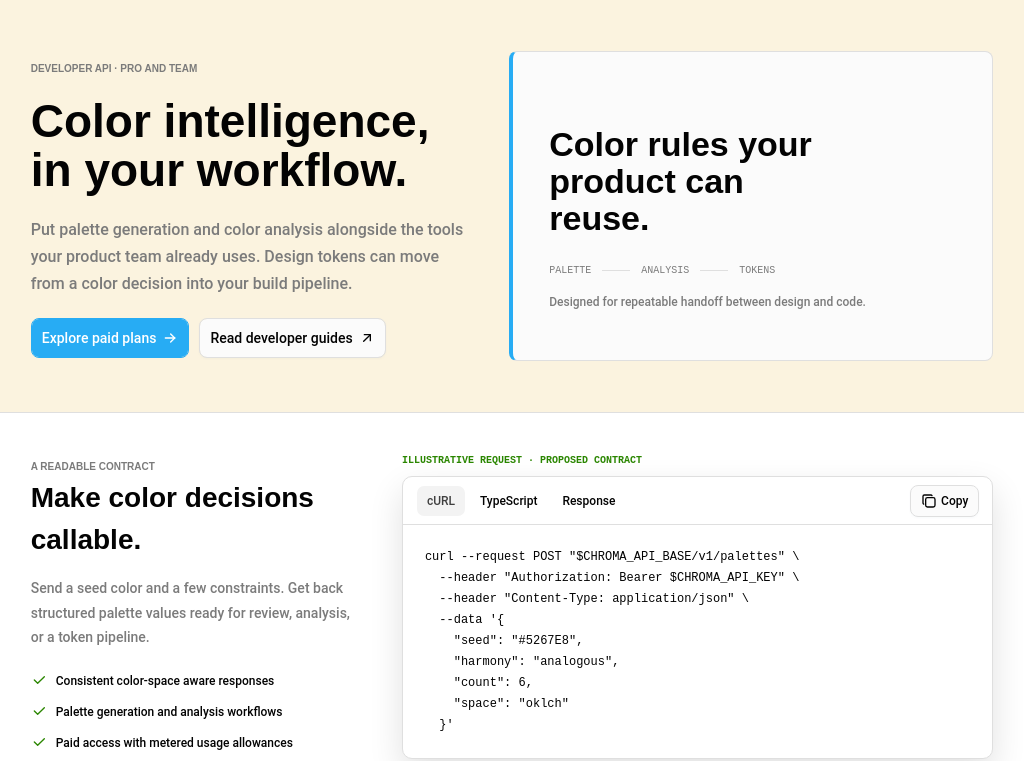
Test case: marketing pricing › switches API examples and exposes the draft contract note
Expected: the heading "Color intelligence, in your workflow." is shown, [31,97,468,196]
Expected: the text "CHROMA_API_BASE/v1/palettes" is shown, [425,550,799,732]
What coordinates should you click on to do the following:
click the button "TypeScript"
I would click on:
 (509, 501)
Its box is [469,485,548,517].
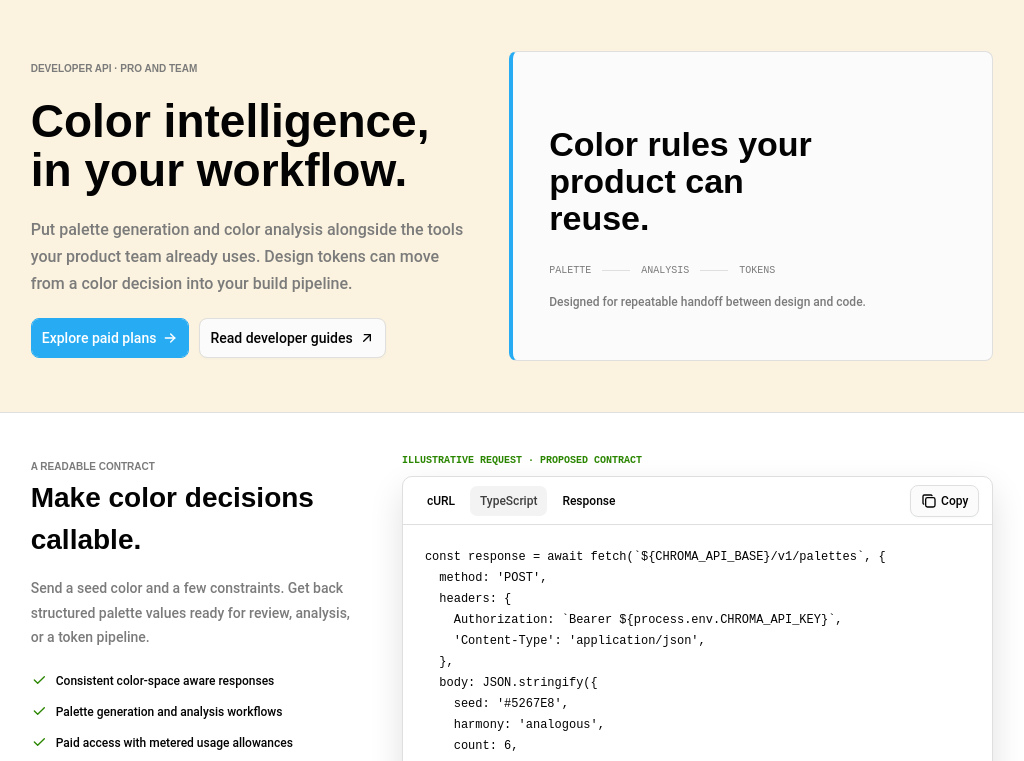
What coordinates should you click on to do the following:
click the button "Response"
I would click on:
 (589, 501)
Its box is [551,485,626,517].
(page scrolled)
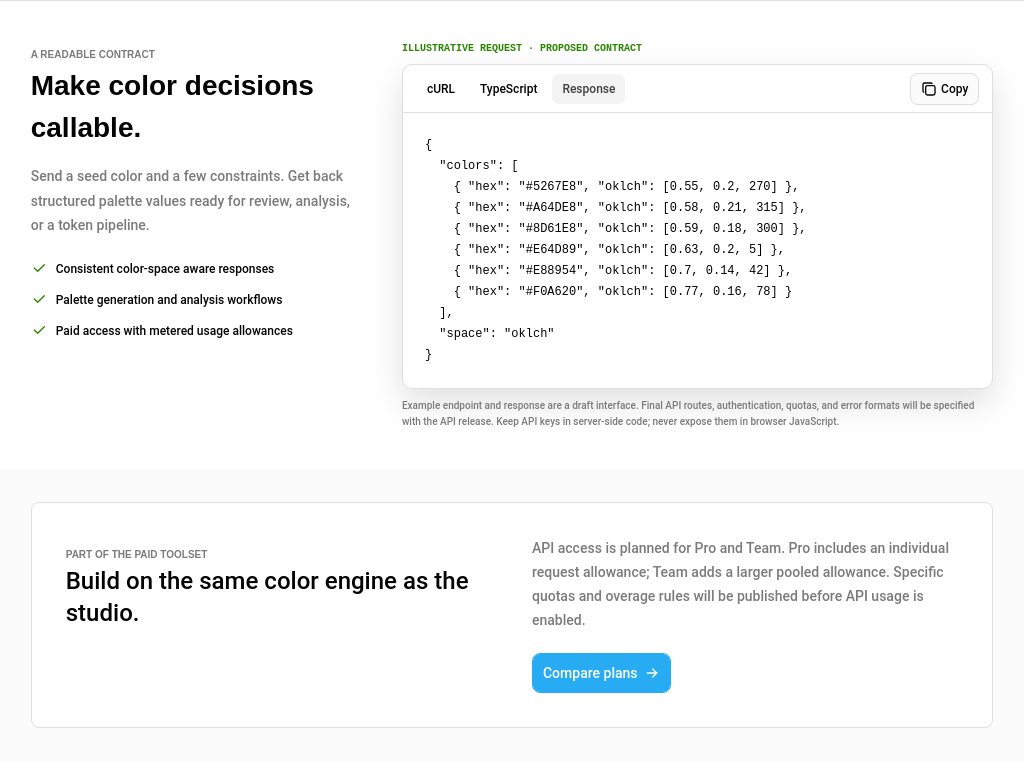
Expected: the text "Final API routes, authentication, quotas" is shown, [402,400,974,427]
Now the text "\"space\": \"oklch\"" is shown, box [425,138,807,362]
